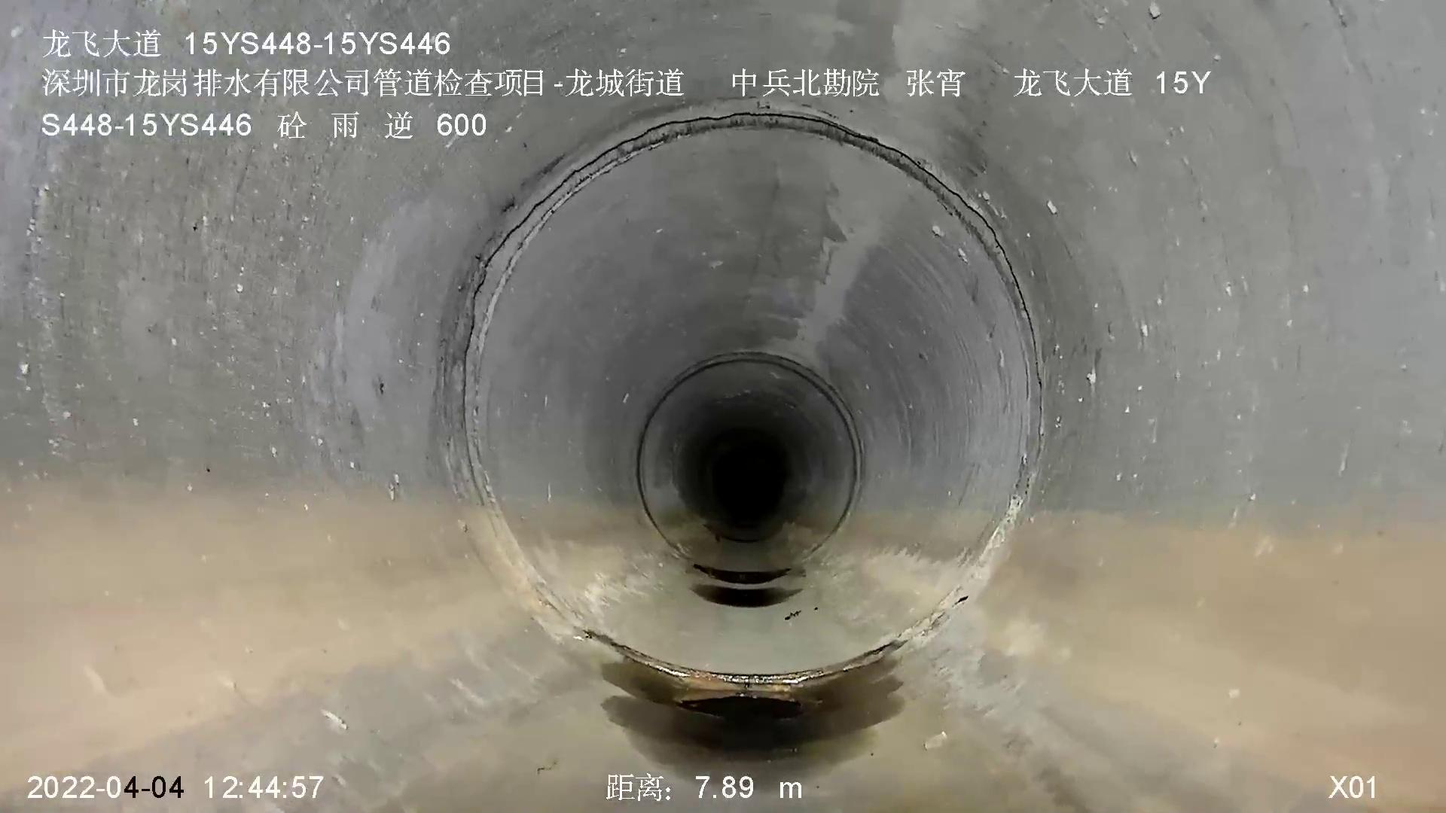CKTJ: (454, 111, 1039, 699), (657, 348, 862, 559)
